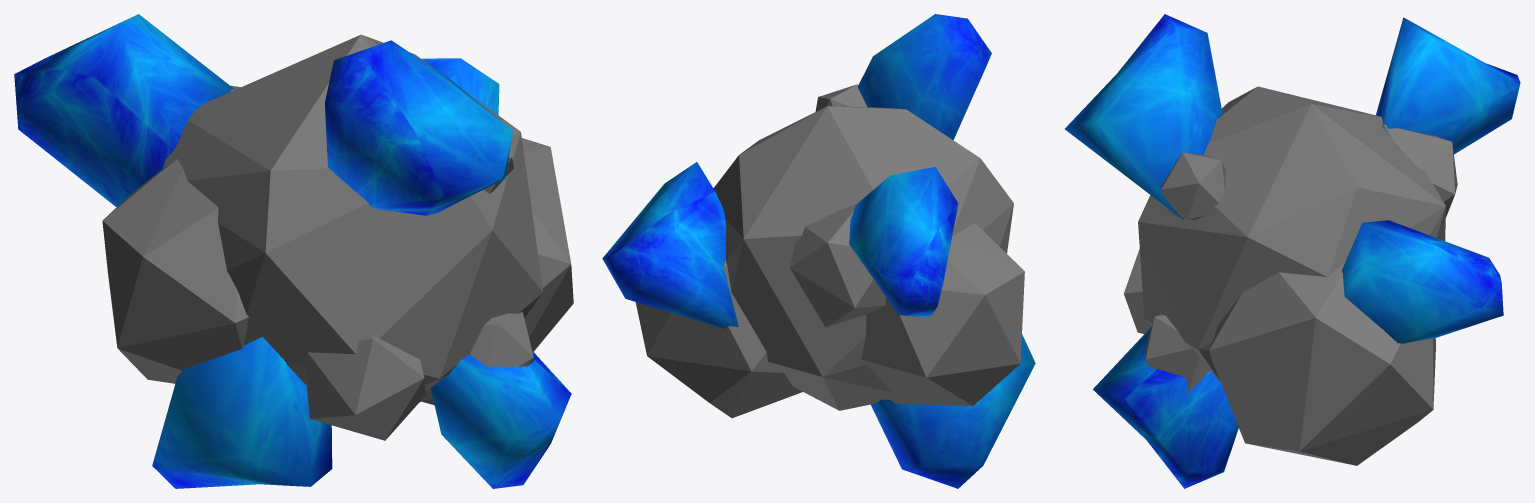
Rendered from metalstoneSemioreLP.fbx.
The picture shows the model from 3 angles, left to right: view 1: azimuth 30°, elevation 25°; view 2: azimuth 150°, elevation 25°; view 3: azimuth 270°, elevation 25°; orthographic projection. The views are drawn at different scales.
Visible parts, largest first — view 1: StoneOre.012, MetalParticle.023; view 2: StoneOre.012, MetalParticle.023; view 3: StoneOre.012, MetalParticle.023.
Boxes of the visible parts, bbox=[...] form: StoneOre.012: bbox=[102, 34, 573, 440]; MetalParticle.023: bbox=[14, 14, 571, 488]; StoneOre.012: bbox=[635, 84, 1024, 418]; MetalParticle.023: bbox=[602, 14, 1035, 488]; StoneOre.012: bbox=[1124, 86, 1457, 465]; MetalParticle.023: bbox=[1065, 14, 1520, 488].
Bounding box in the file's own units: 275 × 285 × 288.
